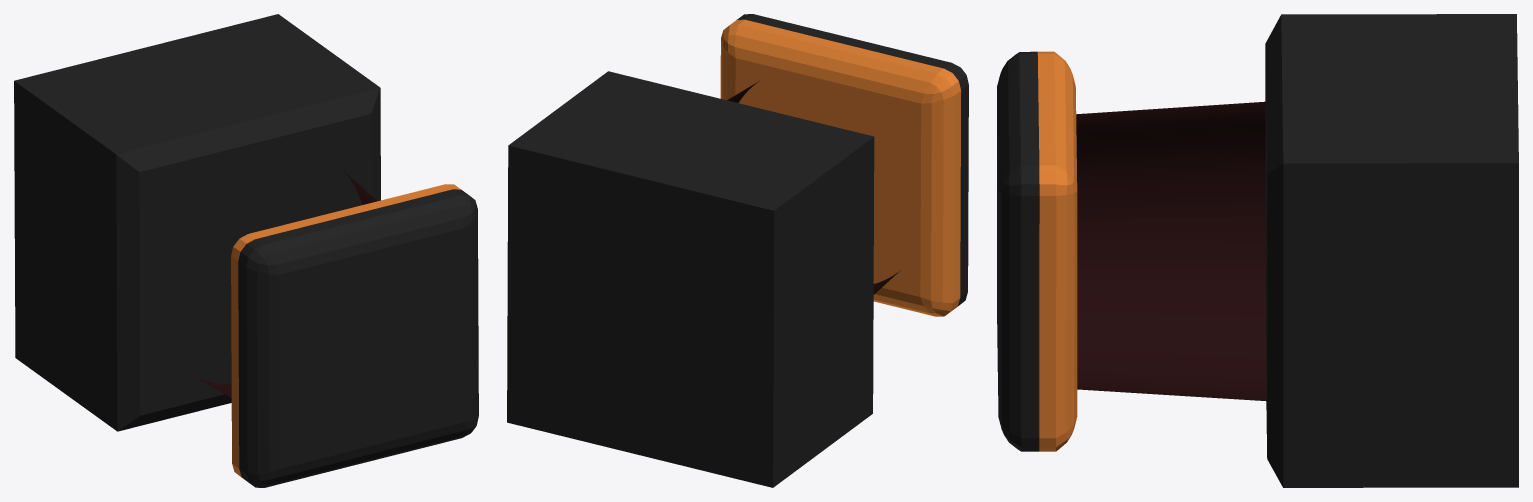
The model's file is roboracer_lidar.glb.
The picture shows the model from 3 angles, left to right: view 1: azimuth 30°, elevation 25°; view 2: azimuth 150°, elevation 25°; view 3: azimuth 270°, elevation 25°; orthographic projection. The views are drawn at different scales.
Visible parts, largest first — view 1: roboracer_lidar; view 2: roboracer_lidar; view 3: roboracer_lidar.
Boxes of the visible parts, bbox=[...] form: roboracer_lidar: bbox=[14, 14, 478, 487]; roboracer_lidar: bbox=[507, 14, 968, 487]; roboracer_lidar: bbox=[997, 14, 1518, 487].
Bounding box in the file's own units: 0.0637 × 0.0635 × 0.0924.
